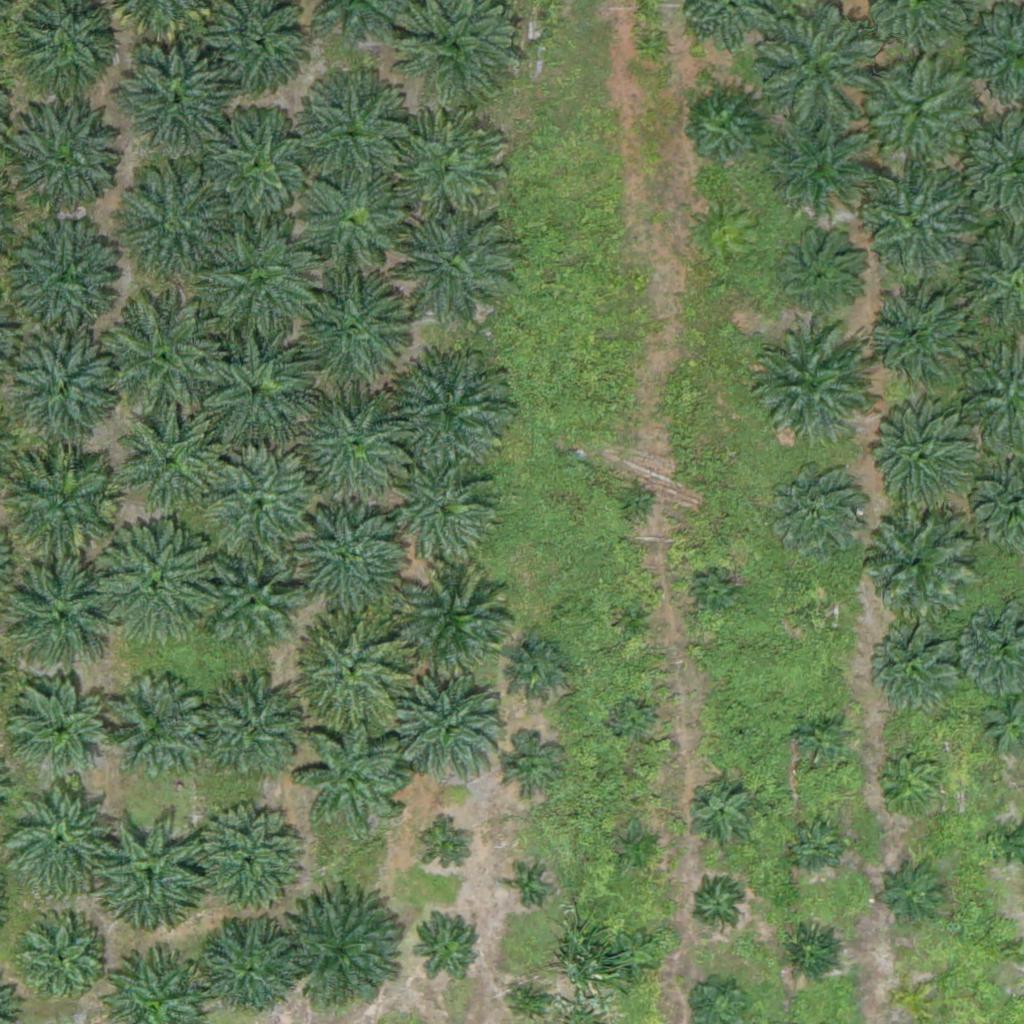Kelapa_Sawit: (752, 2, 877, 128), (291, 68, 416, 194), (198, 104, 323, 230), (385, 106, 510, 232), (3, 96, 128, 222), (6, 214, 131, 340), (2, 440, 127, 566), (1, 556, 126, 682), (99, 296, 224, 422), (106, 164, 231, 290), (111, 36, 236, 162), (195, 227, 320, 353), (189, 330, 314, 456), (197, 452, 322, 578), (284, 503, 409, 629), (292, 389, 417, 515), (287, 268, 412, 394), (389, 206, 514, 332), (385, 351, 510, 477), (396, 571, 521, 697), (745, 322, 870, 448), (90, 810, 215, 936), (2, 327, 127, 452), (97, 523, 222, 648), (286, 891, 411, 1016), (856, 505, 969, 618), (298, 718, 411, 831), (187, 804, 300, 917), (865, 61, 977, 174), (766, 112, 878, 225), (861, 168, 973, 281), (863, 401, 975, 514), (395, 678, 507, 791), (299, 613, 411, 726), (122, 414, 222, 515), (396, 466, 496, 567), (766, 461, 866, 562), (869, 289, 969, 390), (197, 915, 297, 1016), (203, 680, 303, 781), (102, 679, 202, 780), (12, 682, 112, 783), (11, 909, 111, 1010), (303, 176, 403, 276), (207, 562, 294, 651), (778, 226, 865, 314), (875, 629, 962, 717), (687, 91, 762, 167), (410, 907, 485, 982), (497, 734, 560, 797), (507, 636, 570, 699), (881, 864, 944, 927), (780, 919, 843, 982), (790, 709, 853, 772), (687, 778, 749, 841), (881, 754, 943, 817), (424, 824, 474, 875), (612, 933, 662, 984), (694, 880, 744, 930), (788, 821, 838, 871), (612, 700, 650, 738), (616, 602, 654, 640), (617, 483, 655, 521), (619, 826, 657, 864), (802, 596, 840, 633), (698, 576, 735, 614), (510, 871, 547, 908), (514, 981, 551, 1018), (902, 989, 927, 1014), (729, 726, 754, 751)
